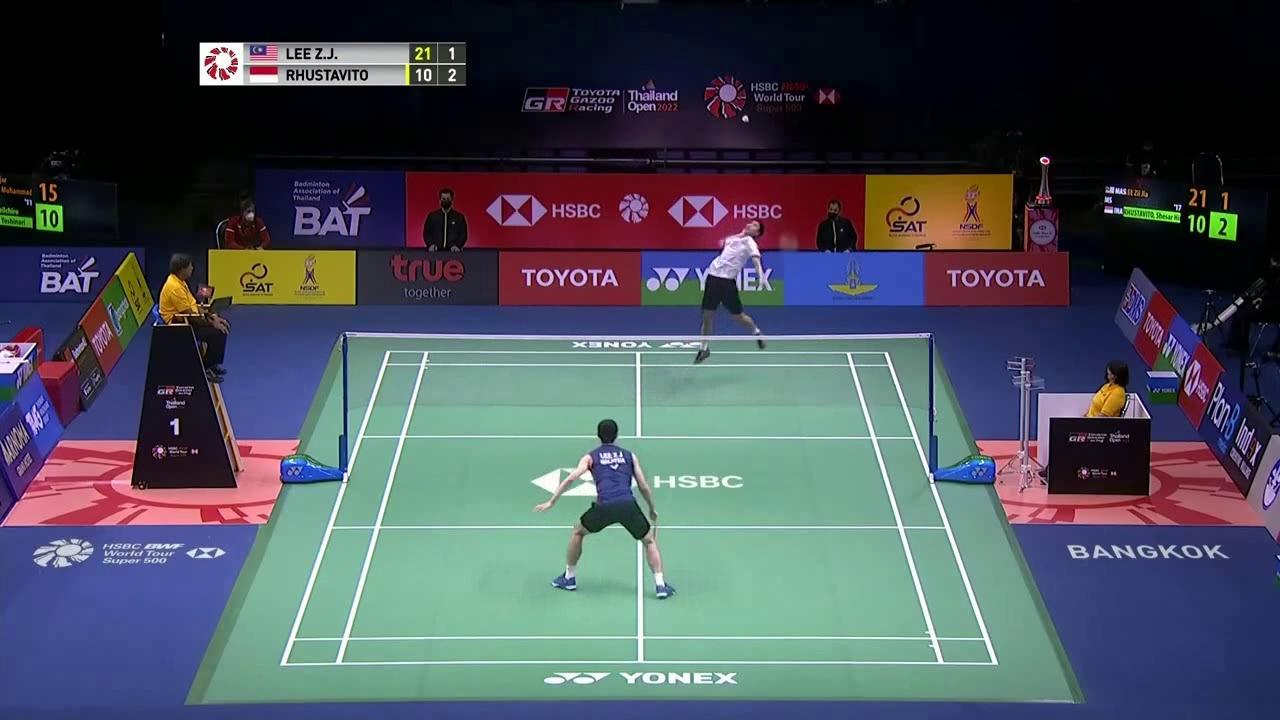racket: (734, 230, 797, 250)
shuttle: (742, 114, 749, 122)
